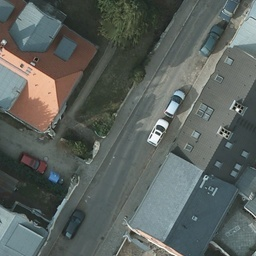car: (198, 22, 228, 57), (58, 207, 85, 240), (19, 153, 47, 177), (214, 1, 248, 20), (163, 88, 185, 117), (146, 119, 170, 145)
